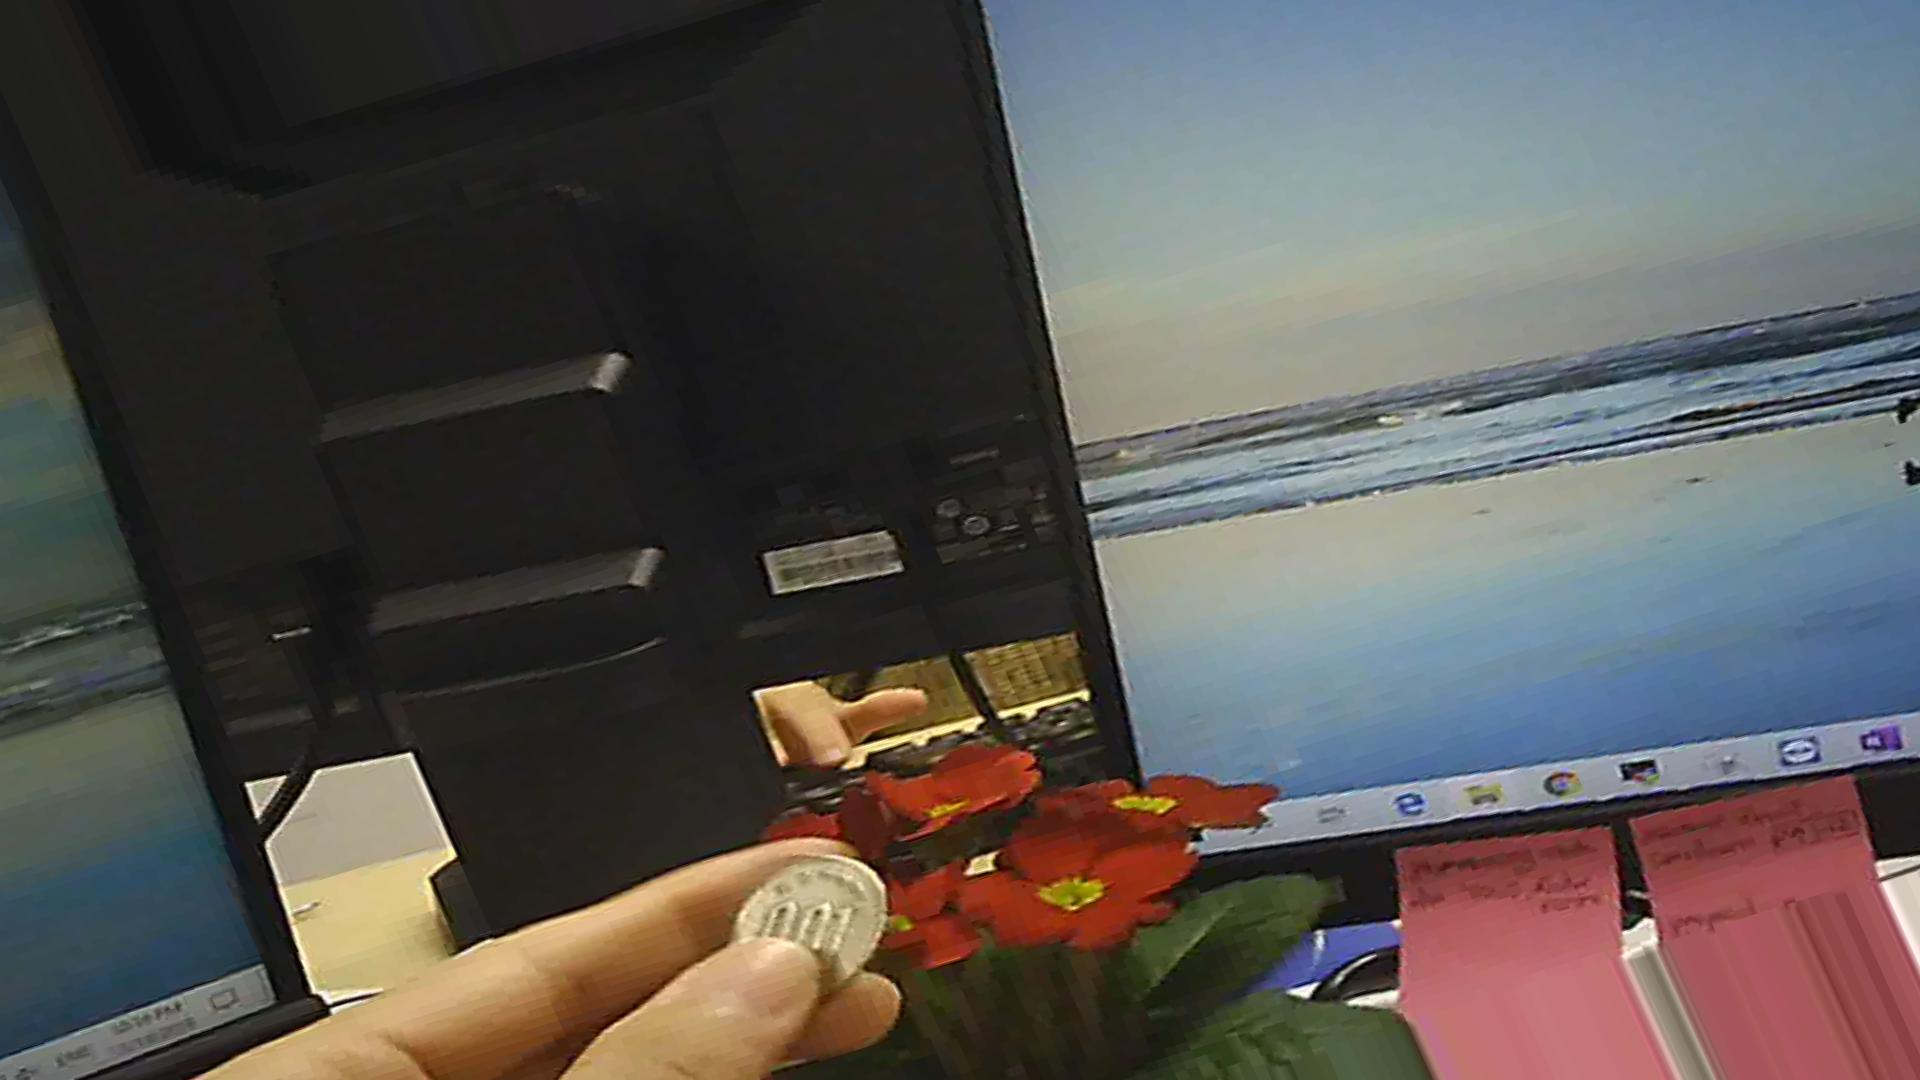100 Yen: (725, 851, 887, 986)
